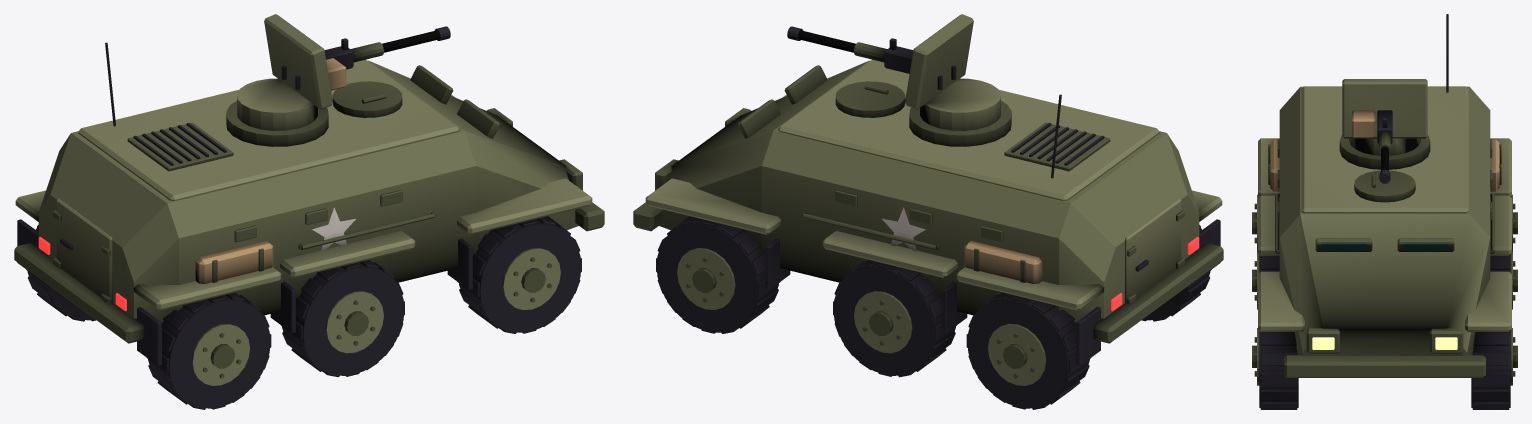
The model's file is veh.military-apc.glb.
3 views of the same model, side by side, from view 1: azimuth 30°, elevation 25°; view 2: azimuth 150°, elevation 25°; view 3: azimuth 270°, elevation 25° (orthographic). The views are drawn at different scales.
Visible parts, largest first — view 1: body, wheelRL, wheelFL, wheelML, turret, gun, wheelRR; view 2: body, wheelRR, wheelFR, wheelMR, turret, gun, wheelRL; view 3: body, turret, wheelFL, wheelFR, gun, lightsFront, wheelML, wheelMR.
Part boxes in pixels (box(x1,y1,x2,y2)): body: box(14, 42, 604, 365); wheelRL: box(147, 292, 271, 409); wheelFL: box(458, 216, 581, 333); wheelML: box(281, 260, 404, 377); turret: box(226, 14, 332, 146); gun: box(281, 26, 450, 90); wheelRR: box(26, 225, 95, 321); body: box(633, 59, 1223, 365); wheelRR: box(966, 292, 1090, 409); wheelFR: box(656, 216, 779, 333); wheelMR: box(833, 260, 956, 377); turret: box(905, 14, 1011, 146); gun: box(787, 26, 956, 89); wheelRL: box(1142, 225, 1211, 321); body: box(1258, 14, 1511, 377); turret: box(1339, 79, 1430, 169); wheelFL: box(1252, 328, 1298, 409); wheelFR: box(1471, 328, 1517, 409); gun: box(1352, 110, 1392, 183); lightsFront: box(1312, 337, 1457, 349); wheelML: box(1252, 252, 1279, 309); wheelMR: box(1490, 252, 1517, 309).
Size of the model in its own units: 5.69 by 3.28 by 3.11.
